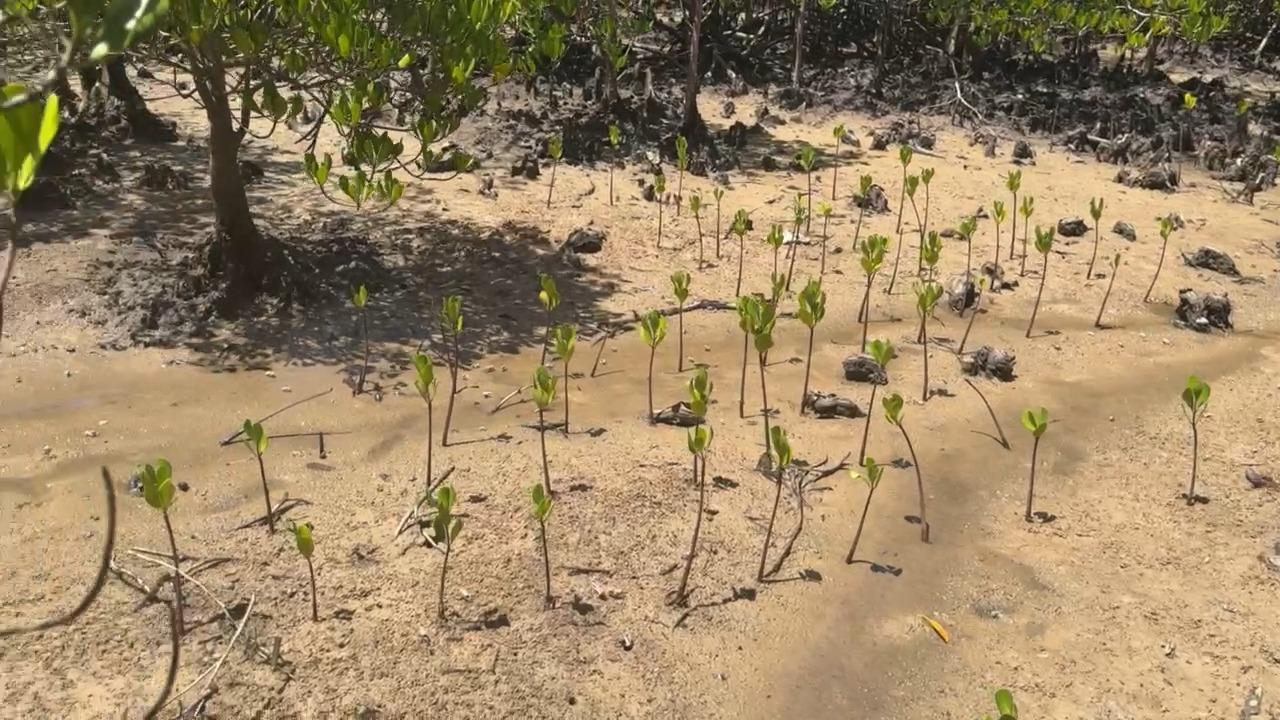Tree: (132, 458, 184, 632), (675, 424, 715, 597), (882, 392, 927, 541), (756, 426, 792, 581), (426, 483, 463, 617), (846, 456, 884, 563), (750, 298, 776, 451), (798, 275, 827, 412), (240, 418, 274, 532), (913, 281, 944, 401), (412, 353, 439, 486), (1144, 212, 1184, 301), (639, 308, 670, 420), (1026, 224, 1056, 336), (862, 234, 890, 352), (441, 296, 463, 446), (1182, 374, 1209, 496), (532, 364, 557, 493), (963, 378, 1009, 448), (915, 230, 943, 341), (288, 519, 318, 621), (738, 295, 762, 420), (1021, 406, 1047, 519), (905, 167, 934, 268), (688, 366, 713, 483), (857, 235, 891, 321), (531, 482, 554, 599), (430, 297, 457, 390), (957, 276, 988, 355), (786, 205, 811, 291), (670, 270, 691, 372), (554, 322, 574, 429), (537, 272, 560, 365), (351, 282, 369, 393), (1095, 253, 1122, 326), (764, 272, 785, 365), (796, 146, 816, 233), (988, 199, 1006, 290), (853, 172, 873, 251), (1006, 169, 1022, 259), (896, 145, 911, 232), (786, 193, 805, 259), (734, 208, 748, 296), (817, 200, 833, 275), (546, 133, 562, 207), (1088, 197, 1102, 278), (981, 690, 1017, 720), (1020, 196, 1033, 277), (768, 223, 786, 279), (691, 186, 703, 267), (960, 216, 977, 273), (591, 329, 610, 377), (832, 124, 844, 199), (675, 132, 686, 213), (655, 174, 665, 247), (609, 125, 617, 204), (714, 188, 723, 257)
